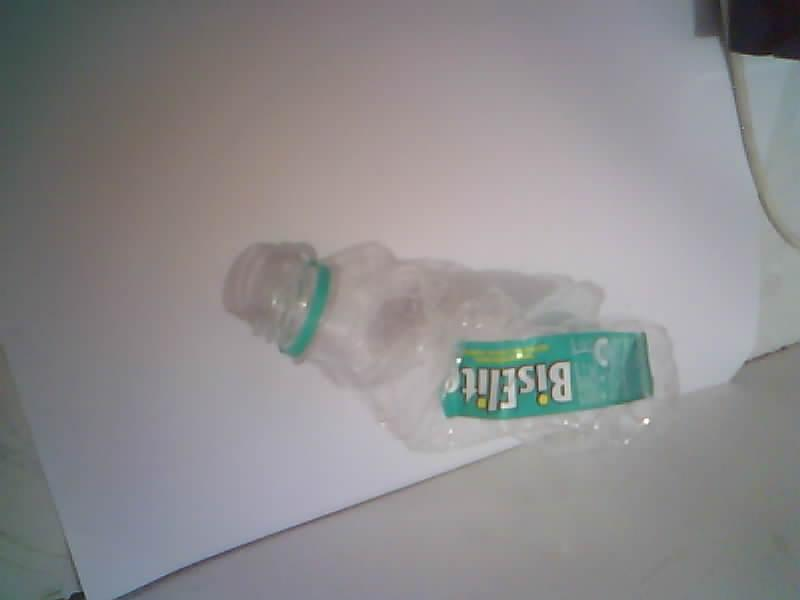non-biodegradable: (223, 244, 678, 451)
